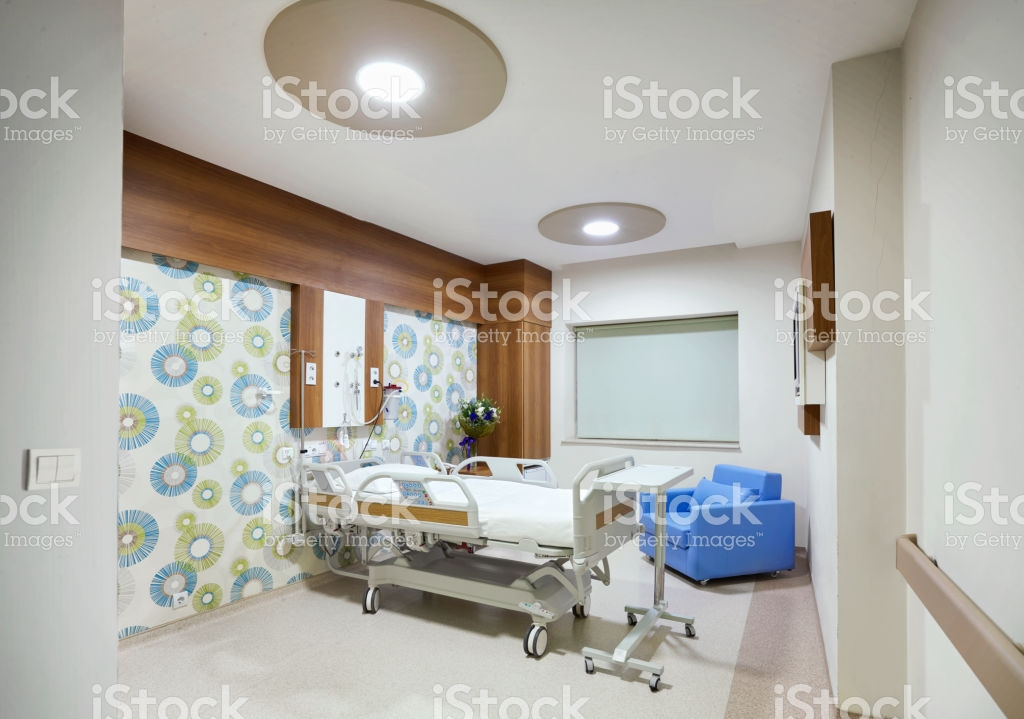bedside table: (600, 455, 673, 499)
hospital bed: (292, 436, 641, 553)
